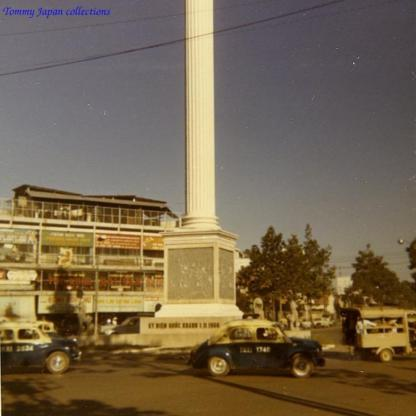Car: (190, 316, 325, 382), (0, 319, 83, 381)
